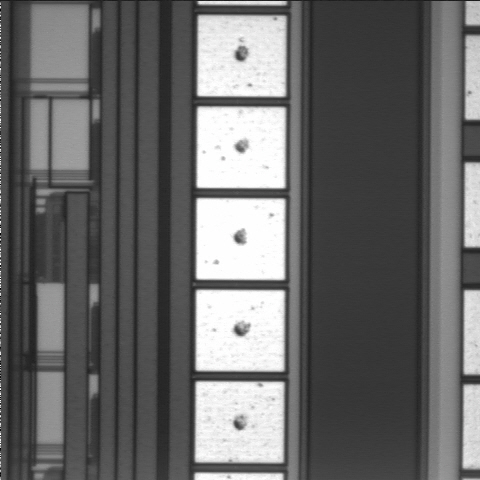pad: (197, 15, 286, 97), (196, 198, 285, 280), (195, 381, 284, 463), (197, 107, 286, 188), (196, 290, 285, 371)
